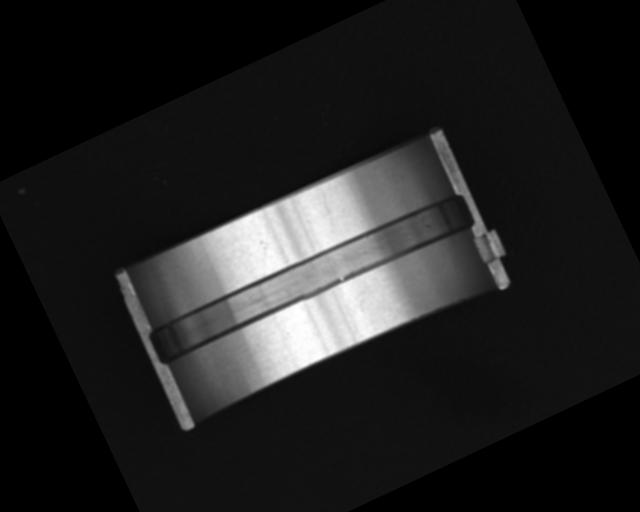gap: (143, 184, 475, 372)
nick: (316, 193, 338, 226)
